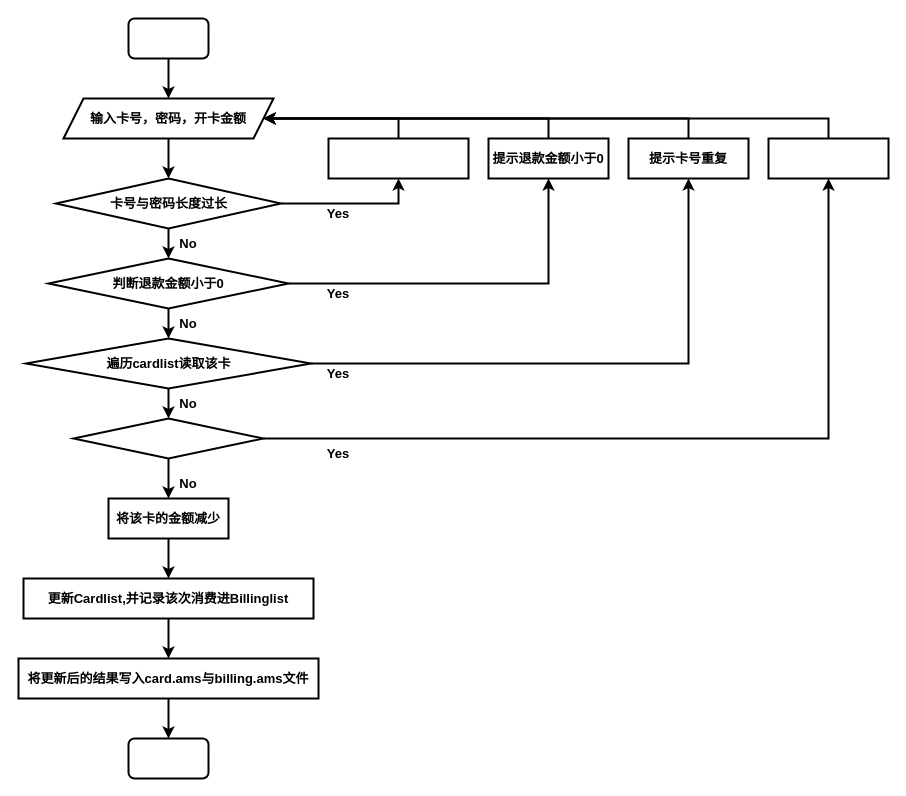
This 906x796 diagram has some shape labels left out. Each missing label, with the centre of its shape:
判断余额是否足够: point (168, 438)
开始: point (168, 38)
提示余额不足: point (828, 158)
提示卡号与密码过长: point (398, 158)
结束: point (168, 758)
